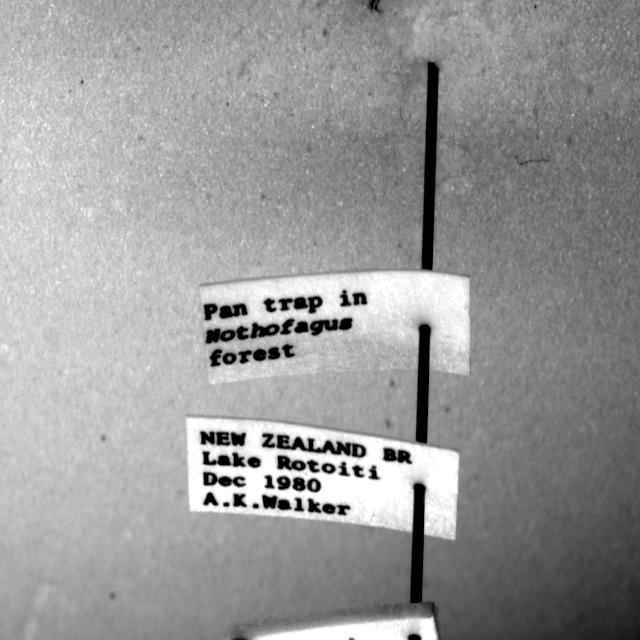typed_label: (186, 416, 459, 540), (200, 270, 470, 384)
